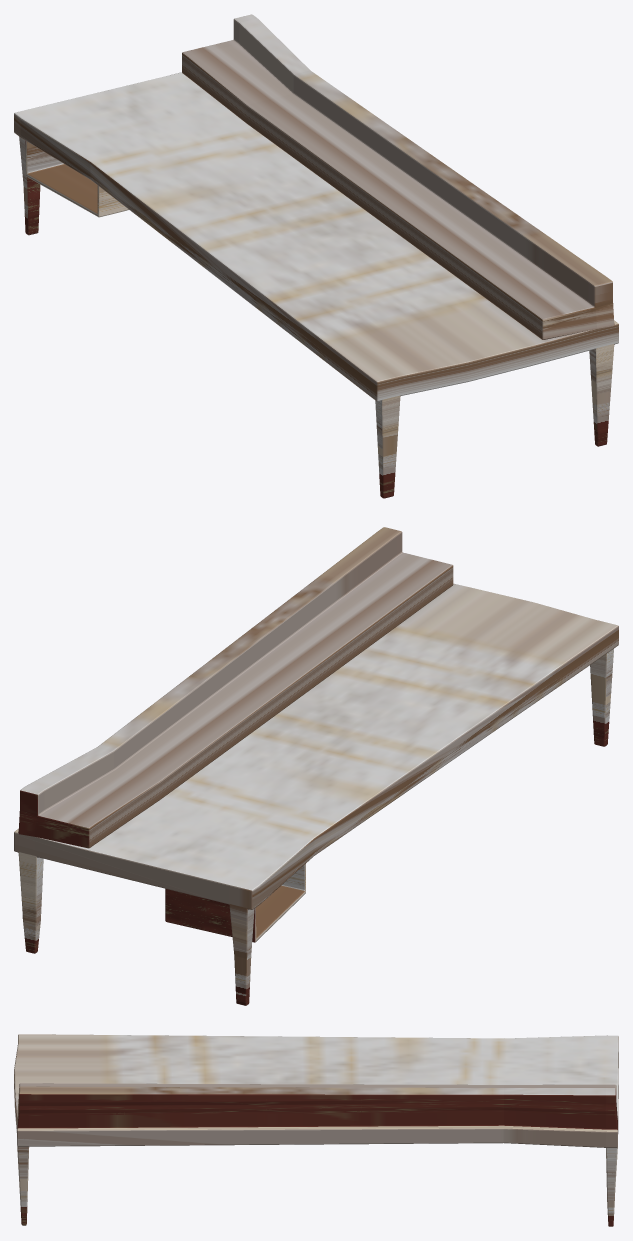
File: bureau.fbx
3 views of the same model, one above another, from view 1: azimuth 30°, elevation 25°; view 2: azimuth 150°, elevation 25°; view 3: azimuth 270°, elevation 25° (orthographic). The views are drawn at different scales.
Visible parts, largest first — view 1: bureau; view 2: bureau; view 3: bureau.
Part boxes in pixels (x1,y1,x2,y2): bureau: (14,14,618,498); bureau: (14,527,618,1005); bureau: (14,1034,618,1226).
Size of the model in its own units: 166 by 106 by 434.
